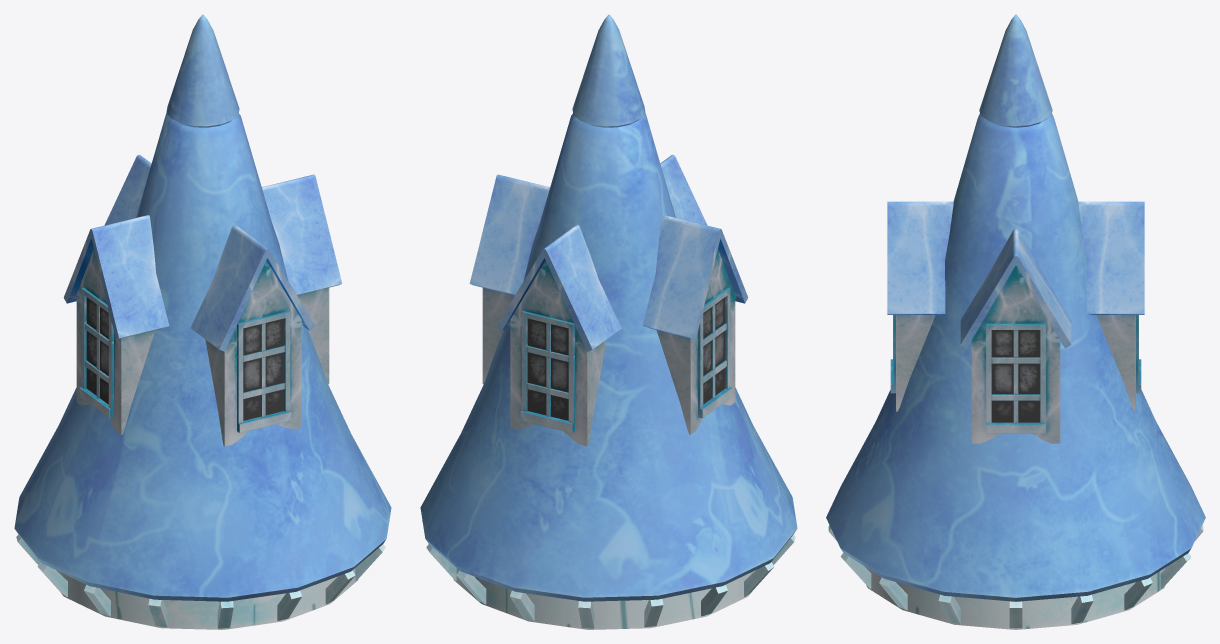
File: sb_obj_outdoor023_IceCastle01_CircleWallTop01.fbx
3 views of the same model, side by side, from view 1: azimuth 30°, elevation 25°; view 2: azimuth 150°, elevation 25°; view 3: azimuth 270°, elevation 25° (orthographic).
Visible parts, largest first — view 1: sb_obj_outdoor023_IceCastle01_CircleWallTop01; view 2: sb_obj_outdoor023_IceCastle01_CircleWallTop01; view 3: sb_obj_outdoor023_IceCastle01_CircleWallTop01.
Boxes of the visible parts, x1,y1,x2,y2 form: sb_obj_outdoor023_IceCastle01_CircleWallTop01: (14,14,391,629); sb_obj_outdoor023_IceCastle01_CircleWallTop01: (420,14,797,629); sb_obj_outdoor023_IceCastle01_CircleWallTop01: (826,14,1205,629).
Bounding box in the file's own units: 3.72 × 5.92 × 3.72.
